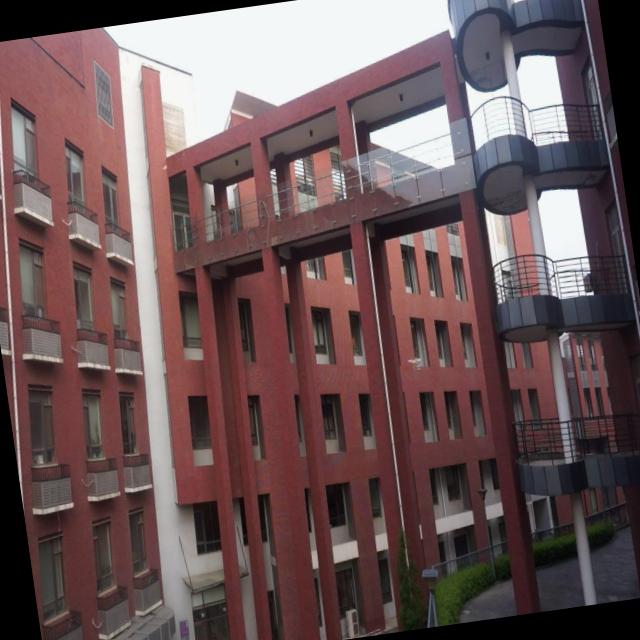drone: (406, 352, 426, 372)
